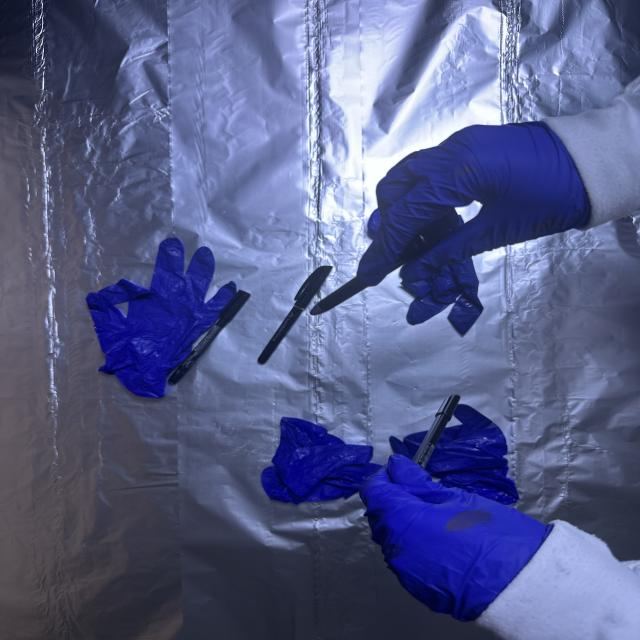gloves_contaminated: (358, 122, 592, 297), (361, 455, 552, 621)
